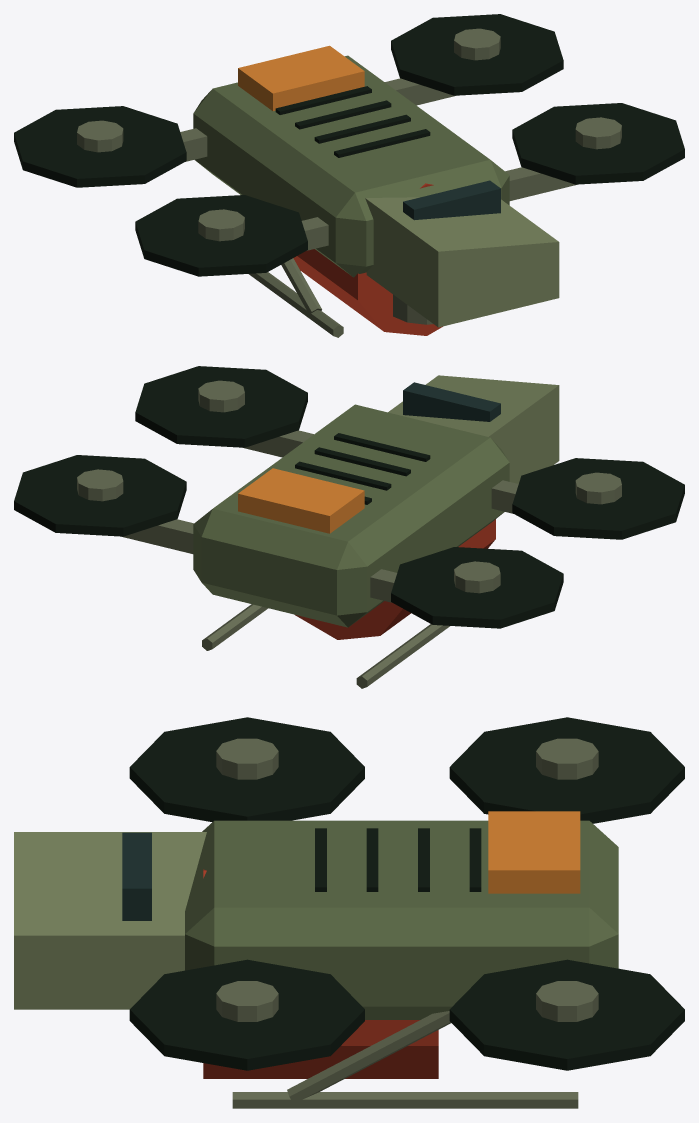
File: kamikaze.obj
3 renders of one model, top to bottom at view 1: azimuth 30°, elevation 25°; view 2: azimuth 150°, elevation 25°; view 3: azimuth 270°, elevation 25°, orthographic. The views are drawn at different scales.
Visible parts, largest first — view 1: Body.003, Rotor_03.001, Rotor_02.001, Rotor_01.001, Rotor_00.001; view 2: Body.003, Rotor_01.001, Rotor_00.001, Rotor_02.001, Rotor_03.001; view 3: Body.003, Rotor_01.001, Rotor_03.001, Rotor_00.001, Rotor_02.001.
Part boxes in pixels (box(x1,y1,x2,y2)): Body.003: box(180, 45, 576, 337); Rotor_03.001: box(391, 14, 563, 95); Rotor_02.001: box(14, 106, 186, 187); Rotor_01.001: box(512, 103, 684, 184); Rotor_00.001: box(135, 195, 307, 276); Body.003: box(122, 375, 559, 688); Rotor_01.001: box(135, 366, 307, 447); Rotor_00.001: box(512, 458, 684, 539); Rotor_02.001: box(391, 547, 563, 628); Rotor_03.001: box(14, 455, 186, 536); Body.003: box(14, 811, 618, 1108); Rotor_01.001: box(129, 959, 364, 1070); Rotor_03.001: box(449, 959, 684, 1070); Rotor_00.001: box(129, 717, 364, 822); Rotor_02.001: box(449, 717, 684, 823).
Bounding box in the file's own units: 3.52 × 1.1 × 2.92.
1 material, 1 textured.
